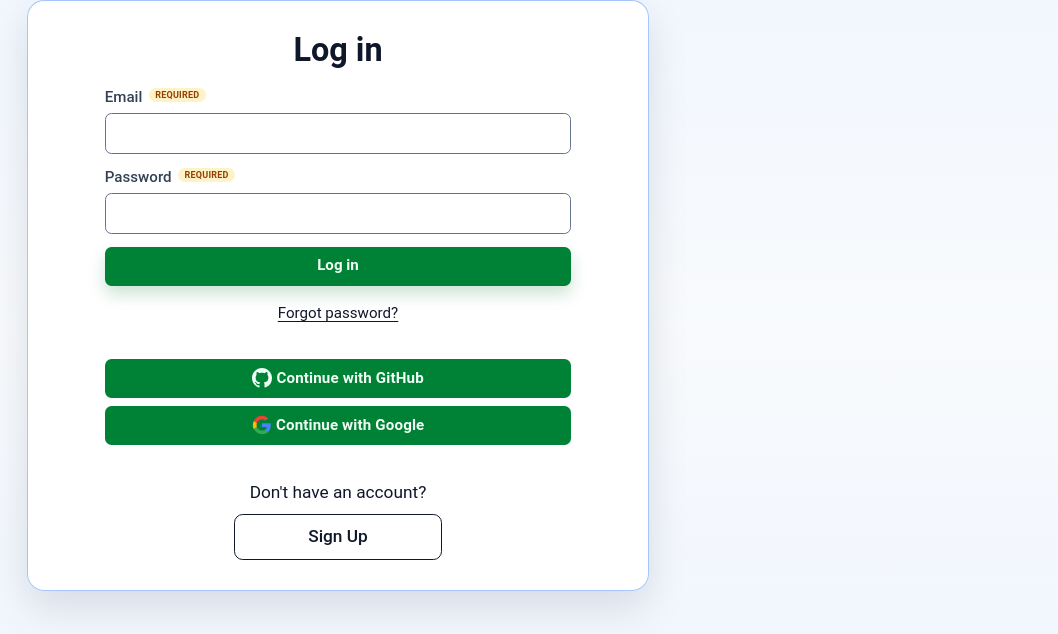
Scenario: LogIn Form Submit › shows error message when signIn throws
The image size is (1058, 634).
Type "existing@user.com" into the field labelled "Email required" at (338, 134), box [105,113,571,154]
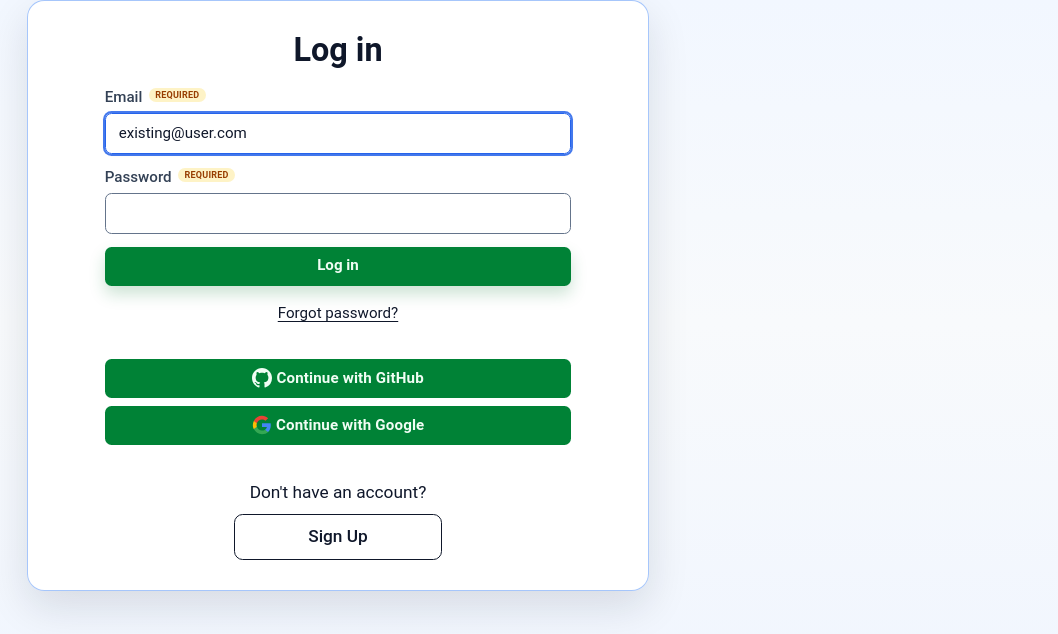
Type "Password123" into the password field labelled "Password required" at (338, 213), box [105,193,571,234]
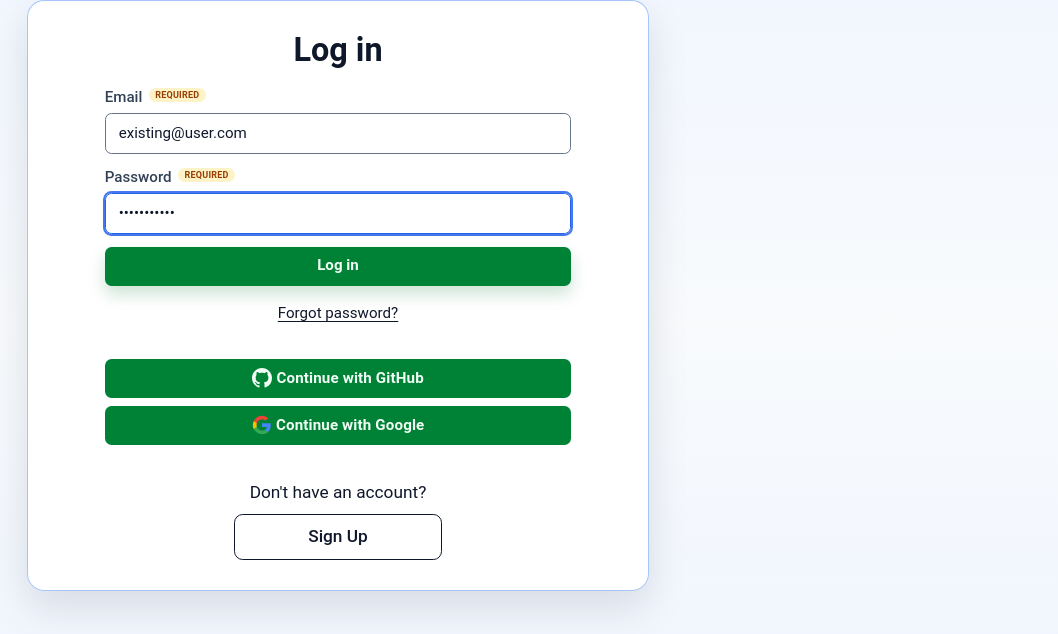
Click the button "Log in" at (338, 266), box [105,247,571,286]
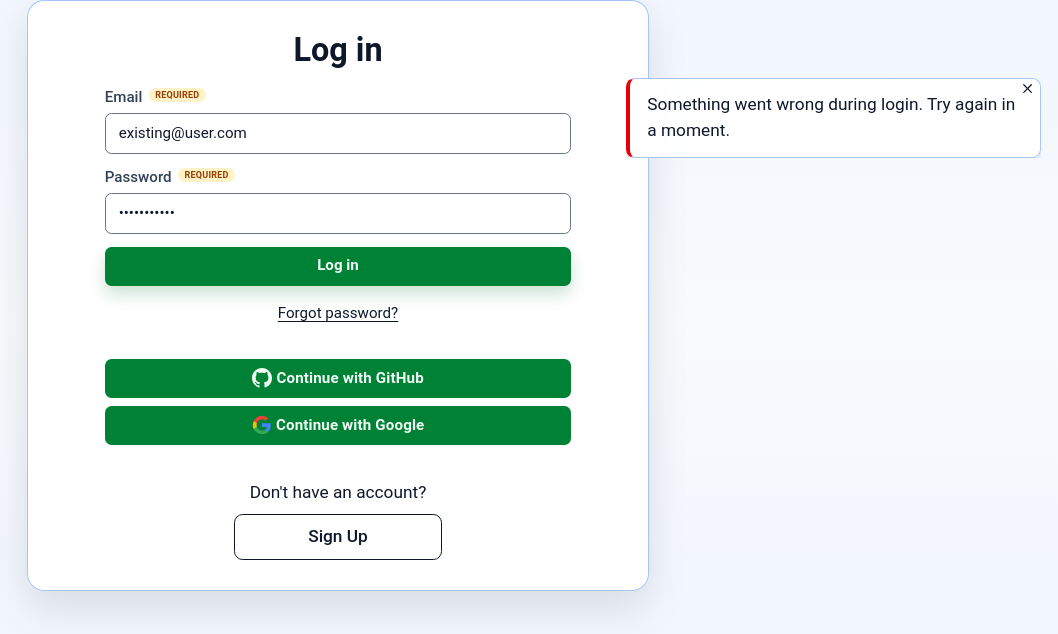
Expected: the text "Something went wrong during login. Try again in a moment." is shown, [647,92,1022,144]
